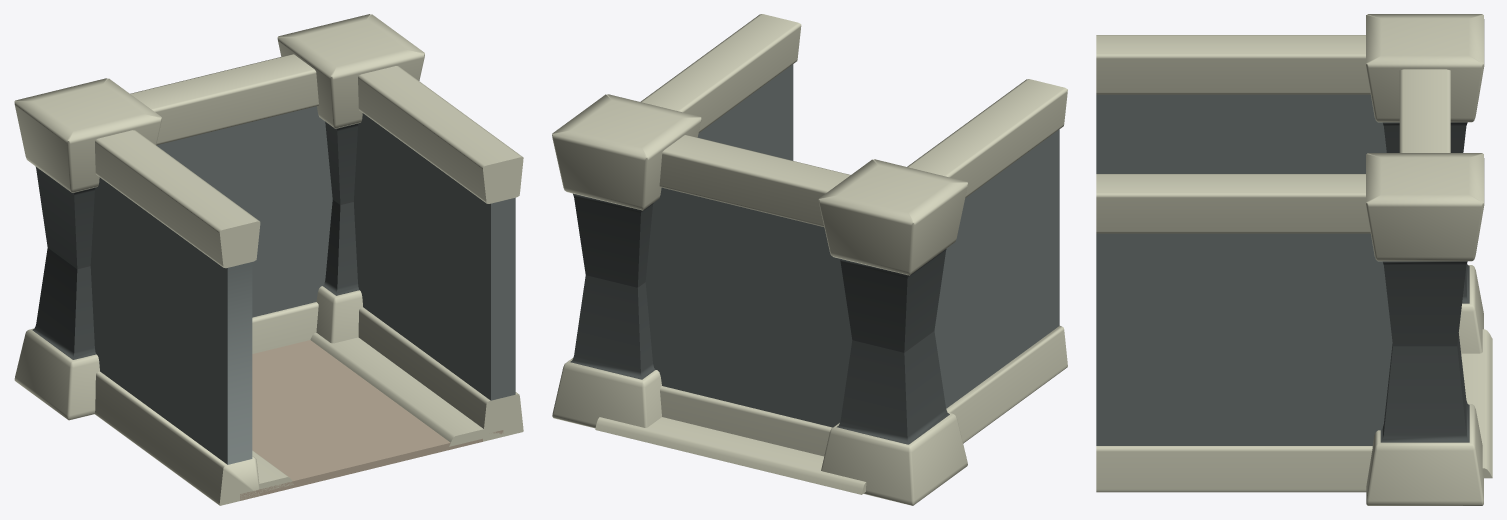
File: HallEndx1.fbx
3 renders of one model, left to right at view 1: azimuth 30°, elevation 25°; view 2: azimuth 150°, elevation 25°; view 3: azimuth 270°, elevation 25°, orthographic. The views are drawn at different scales.
Visible parts, largest first — view 1: Wall.004; view 2: Wall.004; view 3: Wall.004.
Part boxes in pixels (<box>): Wall.004: <box>14,14,523,505</box>; Wall.004: <box>552,14,1067,505</box>; Wall.004: <box>1096,14,1492,505</box>.
Size of the model in its own units: 544 by 410 by 482.
